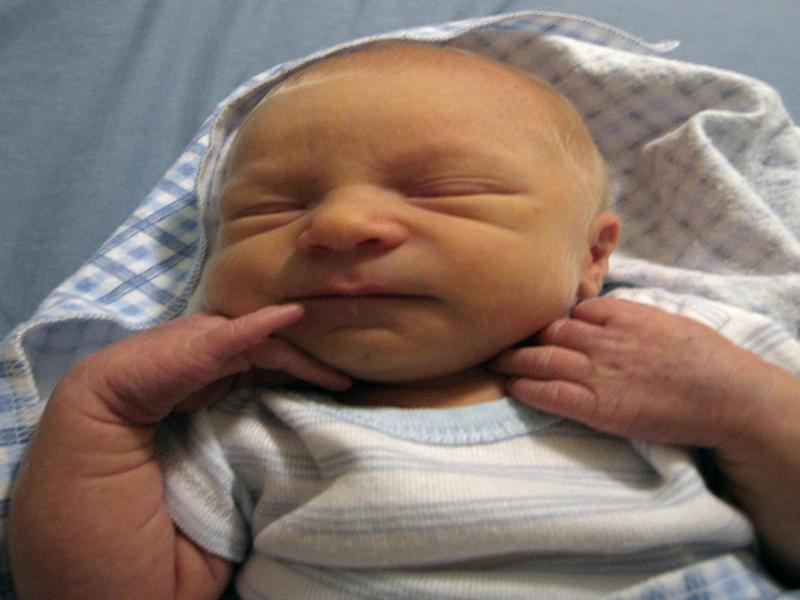person: (9, 34, 800, 600)
